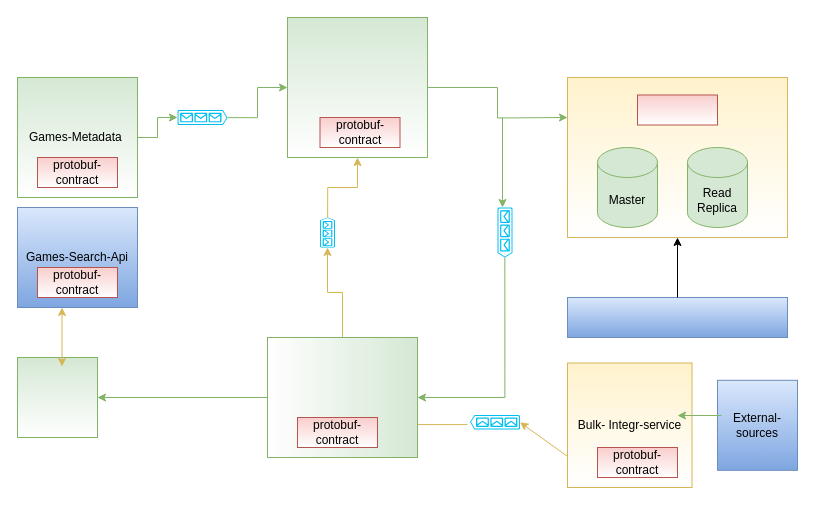
Image size: 815x505. Some labels were removed from this diagram. Here are the shapes that lost their labels. From the top down, the box of each, then its label:
(286, 16, 428, 158): Games-Event Processor
(636, 94, 718, 125): RDBMS
(566, 296, 788, 338): Flyway-Rdbms-service
(16, 356, 98, 438): Index Store
(266, 336, 418, 458): Games-Doc- Indexer
